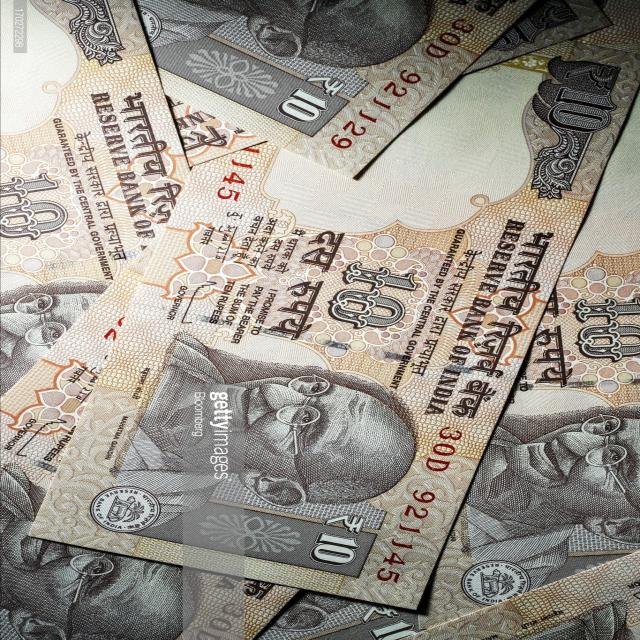10IndianRupees: (23, 84, 602, 622)
